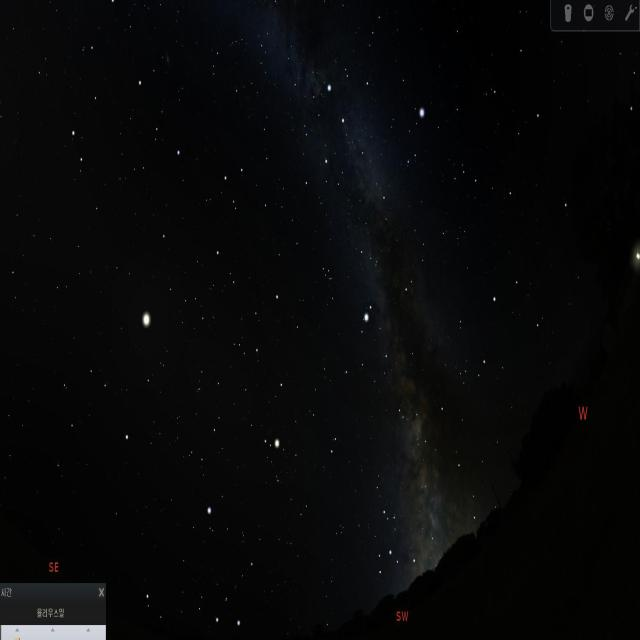aquila: (338, 302, 413, 428)
cygnus: (320, 78, 391, 209)
lyra: (400, 96, 429, 181)
